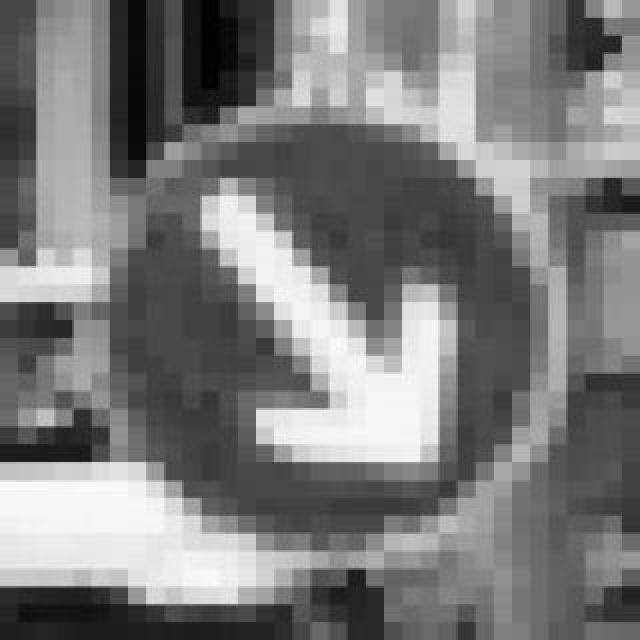keep right: (74, 72, 550, 570)
